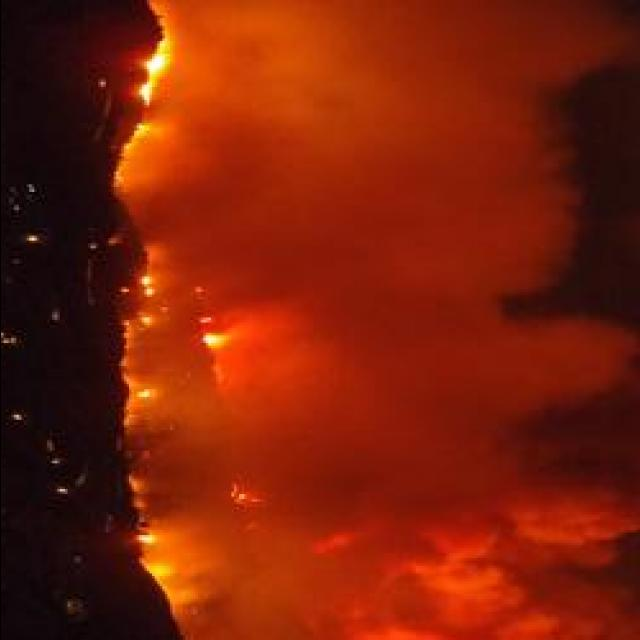fire: (134, 48, 178, 114)
smoke: (305, 488, 640, 637), (188, 3, 372, 134), (240, 298, 386, 426), (192, 519, 320, 640)
